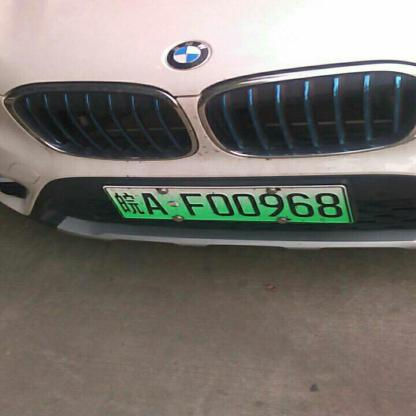lp: (104, 187, 350, 222)
